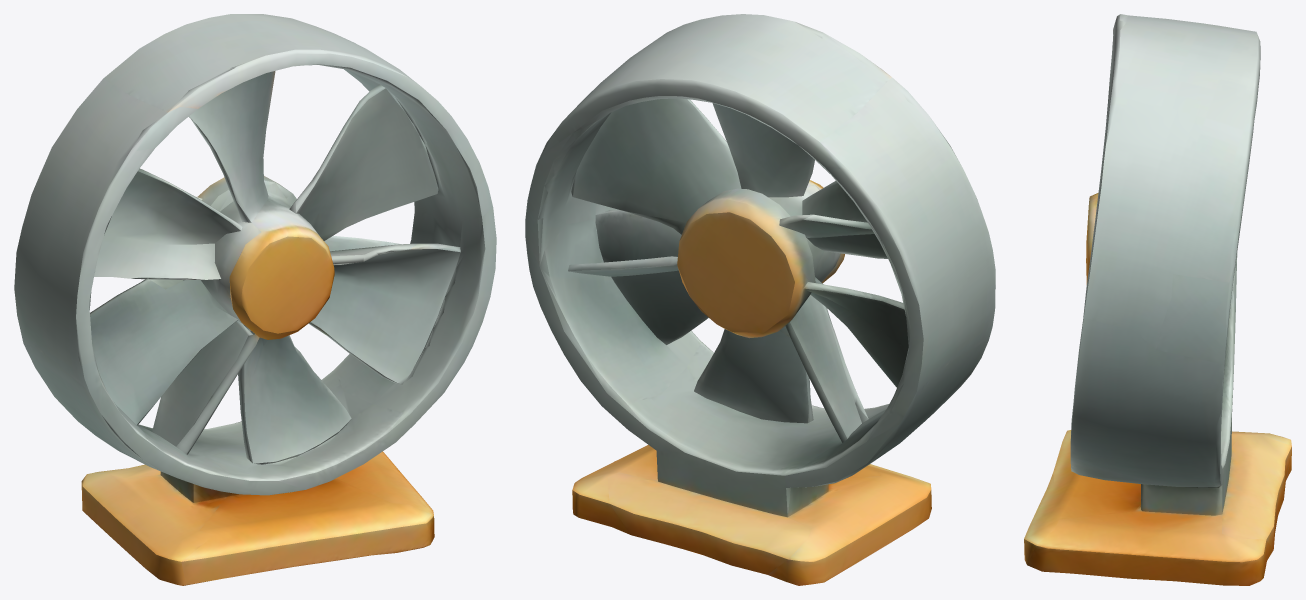
File: m2WindFan.glb
The picture shows the model from 3 angles, left to right: view 1: azimuth 30°, elevation 25°; view 2: azimuth 150°, elevation 25°; view 3: azimuth 270°, elevation 25°; orthographic projection.
Visible parts, largest first — view 1: model; view 2: model; view 3: model.
Boxes of the visible parts, x1=… form: model: x1=14, y1=14, x2=496, y2=585; model: x1=525, y1=14, x2=995, y2=585; model: x1=1024, y1=14, x2=1291, y2=585.
Bounding box in the file's own units: 1.7 × 1.9 × 0.9627.
1 material, 1 textured.
